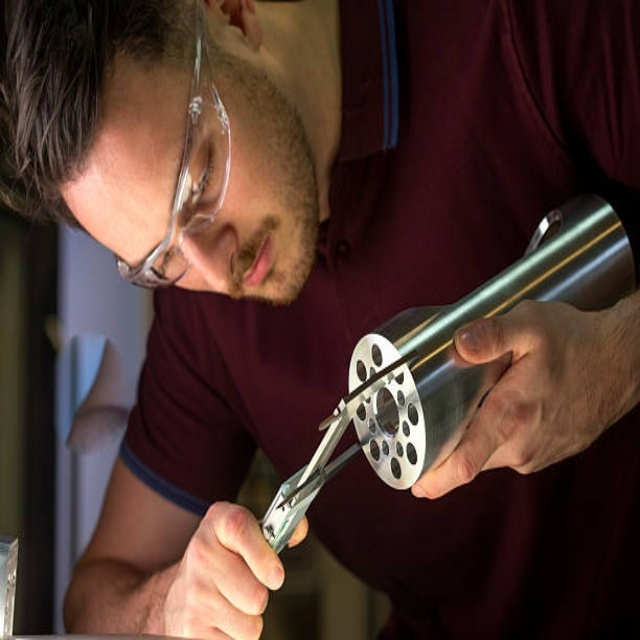Gafas: (115, 7, 228, 291)
Sin_guantes: (412, 290, 637, 497), (147, 496, 295, 640)
Sin_mascara: (225, 205, 303, 301)
